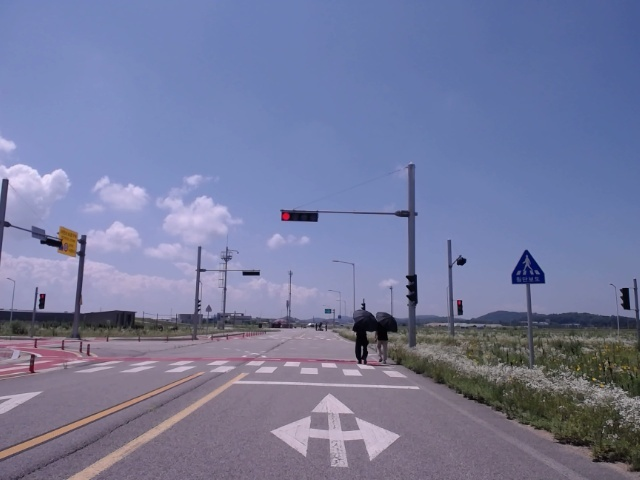red_4: (281, 212, 318, 222)
